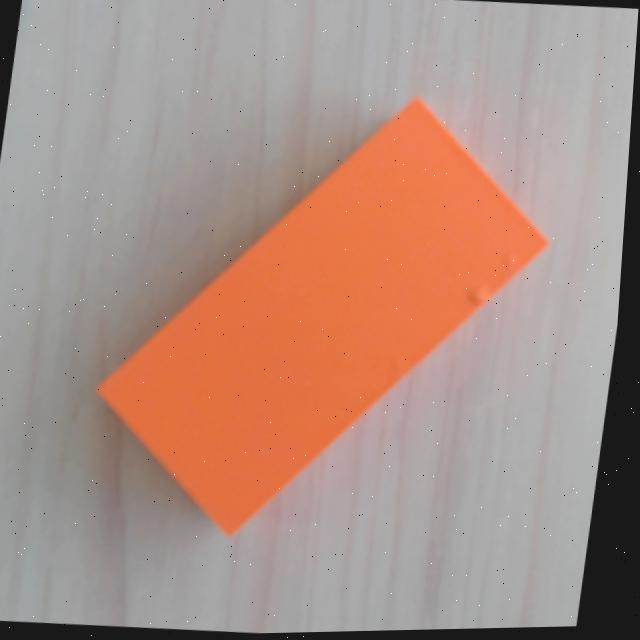Balok-Jingga-1005025: (93, 93, 551, 537)
